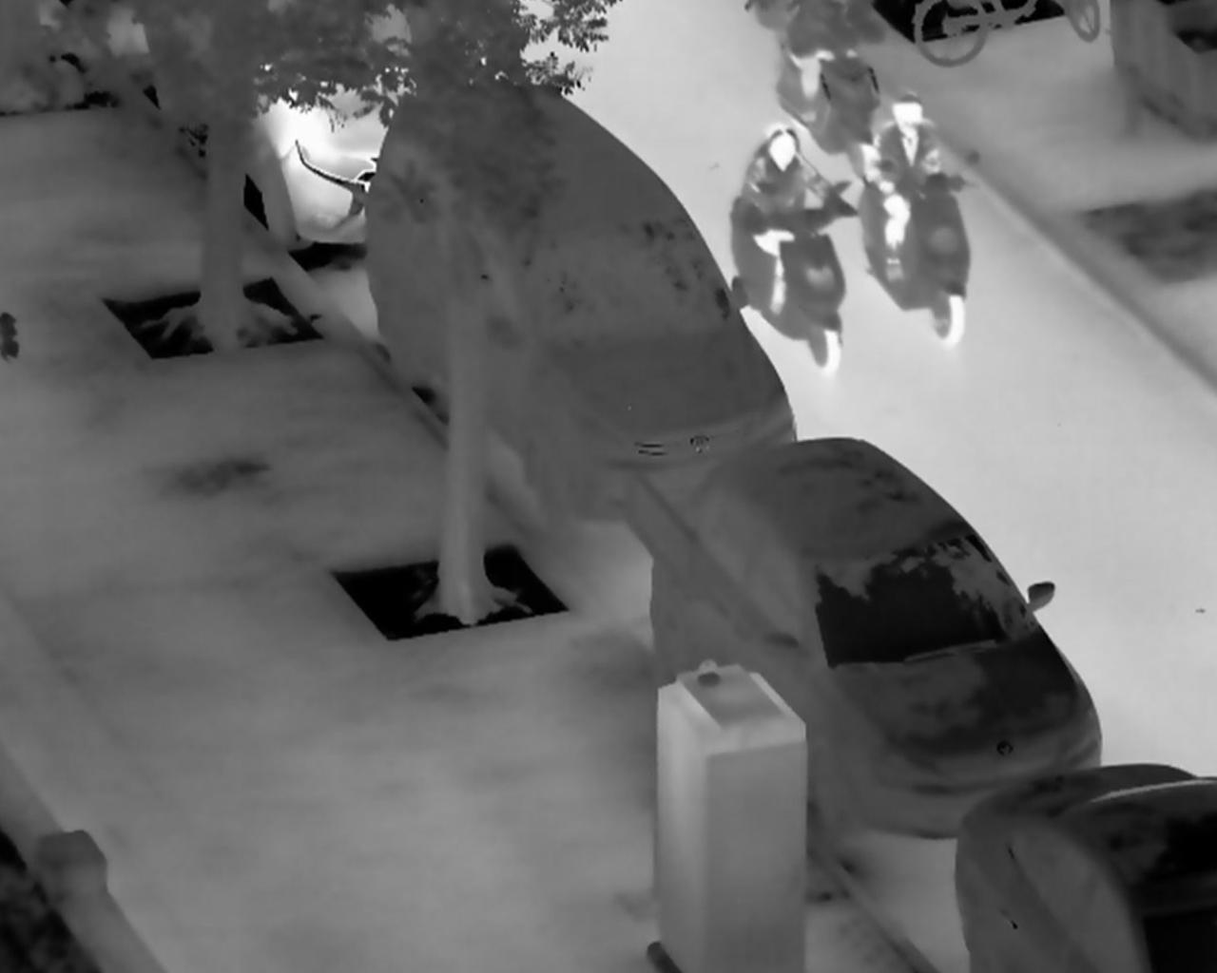person: (740, 121, 850, 320), (861, 92, 950, 286)
